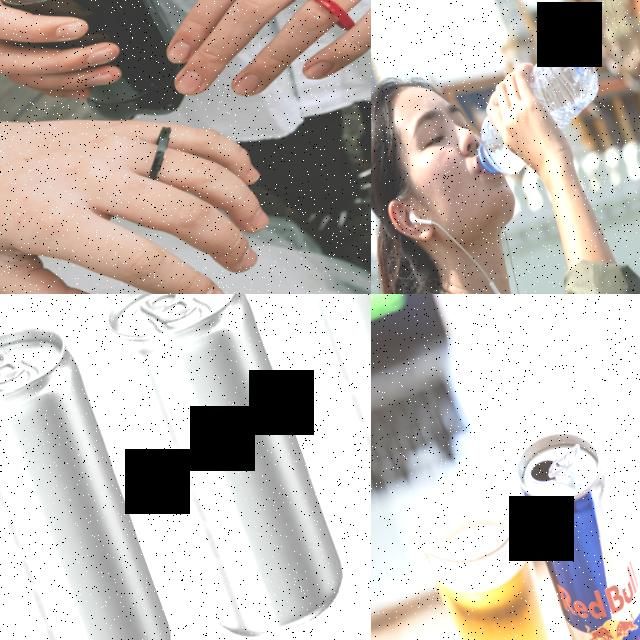bottle: (0, 0, 204, 159), (443, 35, 620, 191)
can: (91, 294, 361, 640), (0, 310, 190, 640), (262, 294, 371, 596), (501, 420, 640, 640)
